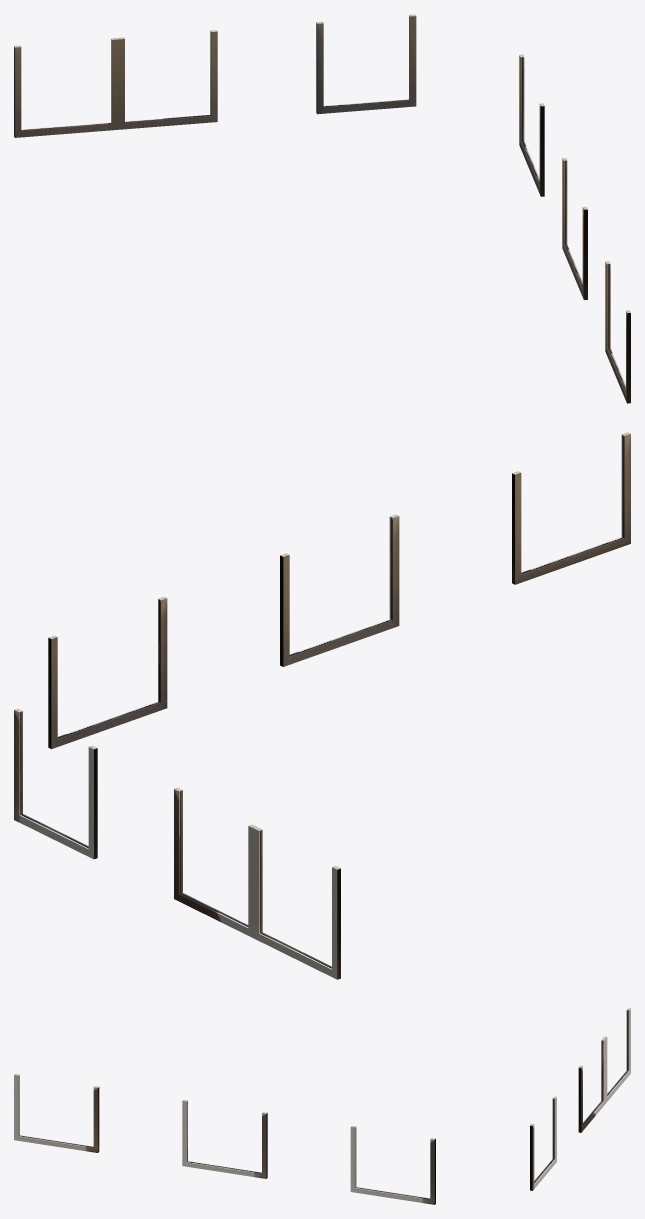
The model's file is Building_05_L03_Ap_06_Frames.fbx.
3 views of the same model, one above another, from view 1: azimuth 30°, elevation 25°; view 2: azimuth 150°, elevation 25°; view 3: azimuth 270°, elevation 25° (orthographic). The views are drawn at different scales.
Parts seen in each view (by area): view 1: Building_05_L03_Ap_06_Frames; view 2: Building_05_L03_Ap_06_Frames; view 3: Building_05_L03_Ap_06_Frames.
Boxes of the visible parts, bbox=[...] form: Building_05_L03_Ap_06_Frames: bbox=[14, 14, 630, 403]; Building_05_L03_Ap_06_Frames: bbox=[14, 432, 630, 979]; Building_05_L03_Ap_06_Frames: bbox=[14, 1008, 630, 1204].
Bounding box in the file's own units: 6.44 × 1.48 × 12.73.
1 material, 1 textured.
